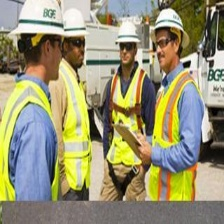helmet: (5, 1, 68, 41), (150, 7, 192, 50), (113, 18, 144, 49), (63, 6, 91, 40)
person: (4, 1, 69, 203), (147, 4, 208, 201), (105, 18, 153, 191), (64, 3, 97, 204)
vest: (4, 78, 63, 196), (156, 73, 204, 197), (107, 64, 150, 174), (62, 61, 93, 200)
